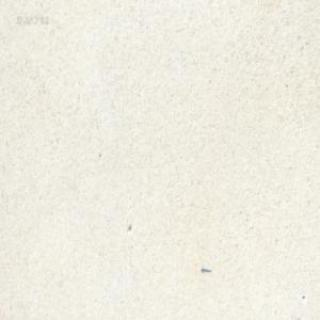Nailtrack_idkeyframe: (200, 264, 210, 272)
